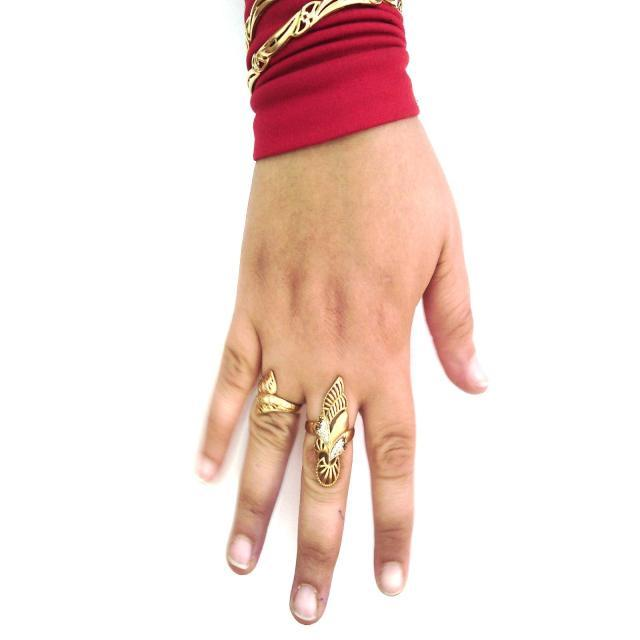Fingernail: (294, 585, 318, 620), (380, 562, 403, 594), (230, 536, 252, 567), (468, 361, 488, 387), (198, 459, 215, 480)
